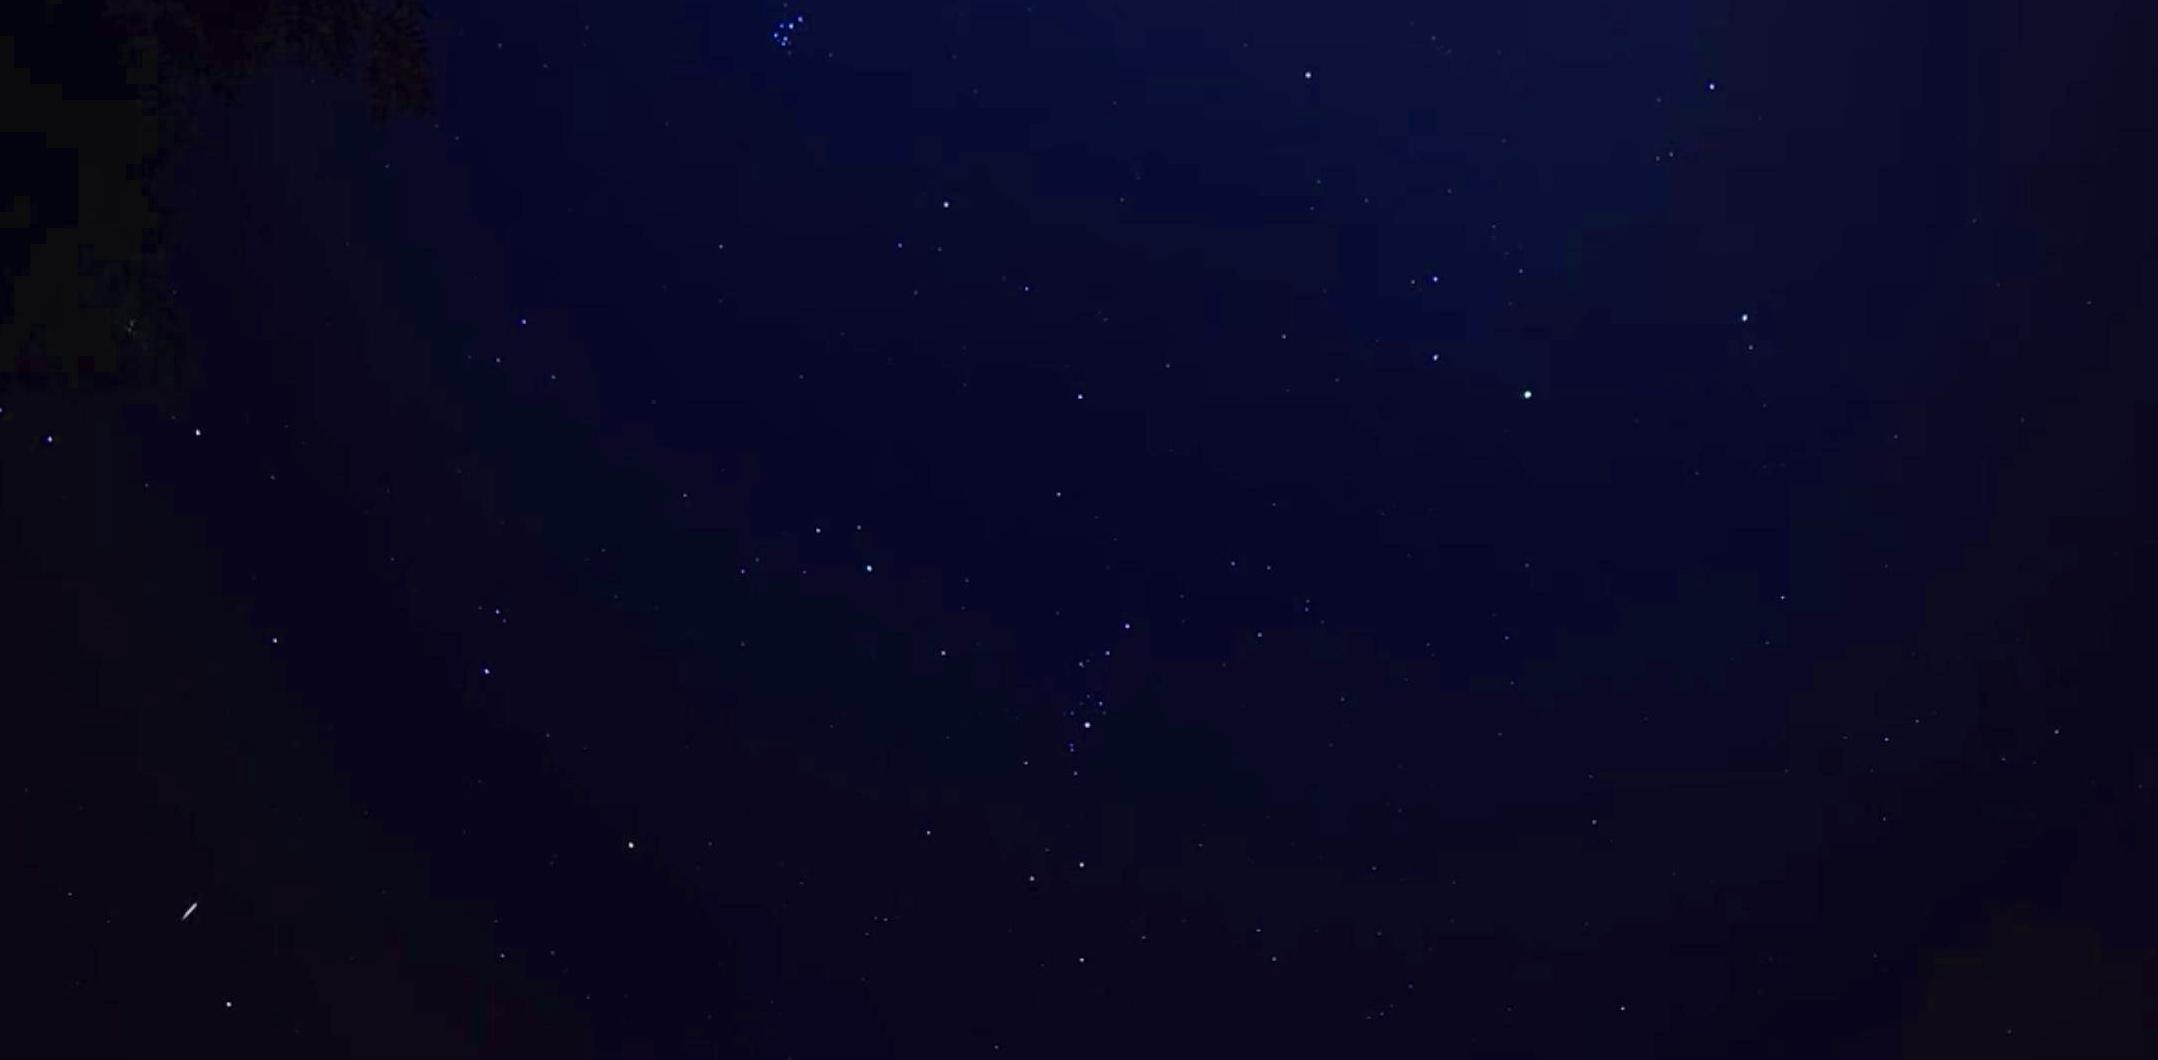meteorite: (140, 887, 235, 931)
